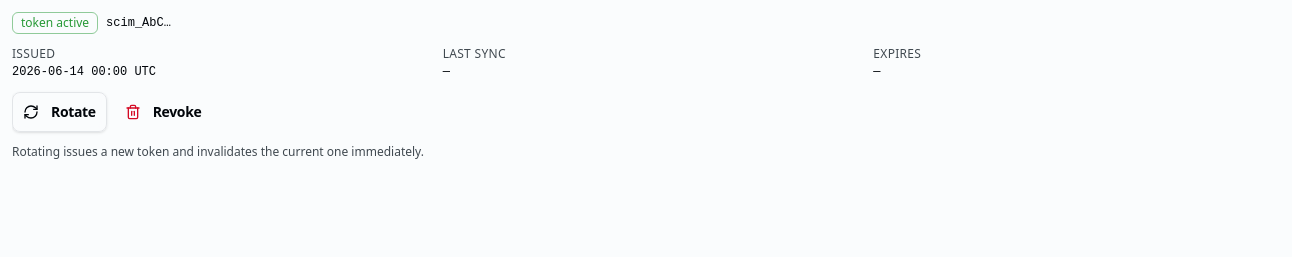
Test case: ScimProvisioningSection › surfaces the 409 'just issued; retry' conflict on rotate
Click the button "Rotate" at (59, 112), box left=12, top=92, right=107, bottom=132
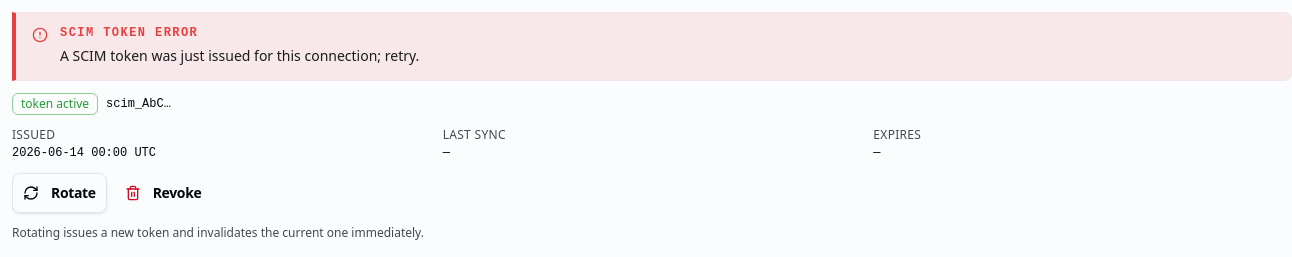
Expected: the text "A SCIM token was just issued for this connection; retry." is shown, left=60, top=45, right=419, bottom=68
